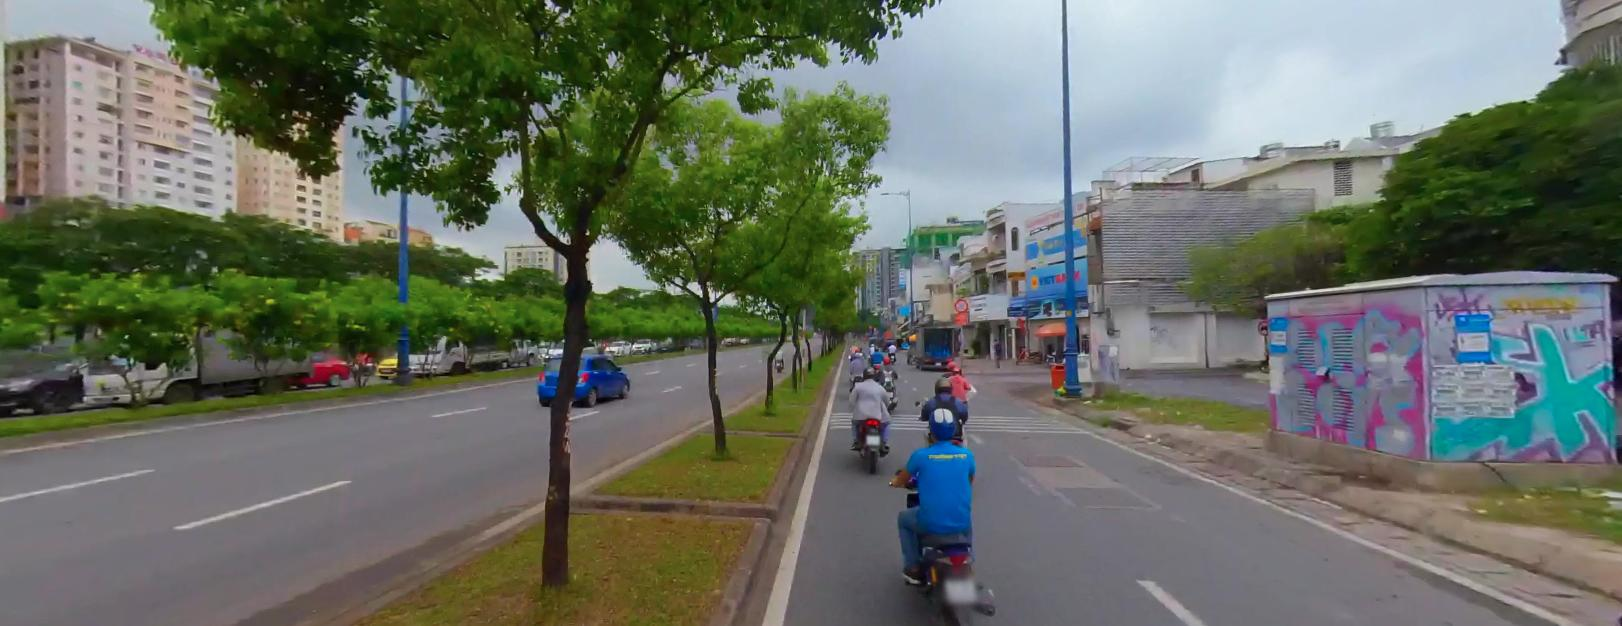Cam con lai: (1257, 319, 1270, 333), (1256, 318, 1269, 332), (954, 297, 967, 310), (954, 298, 968, 310)
